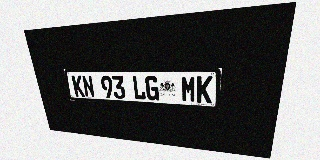3: (112, 76, 126, 99)
9: (100, 76, 114, 98)
G: (145, 76, 159, 101)
K: (196, 76, 213, 103), (71, 75, 85, 97)
L: (132, 76, 146, 100)
M: (181, 76, 196, 102)
N: (81, 75, 95, 97)
